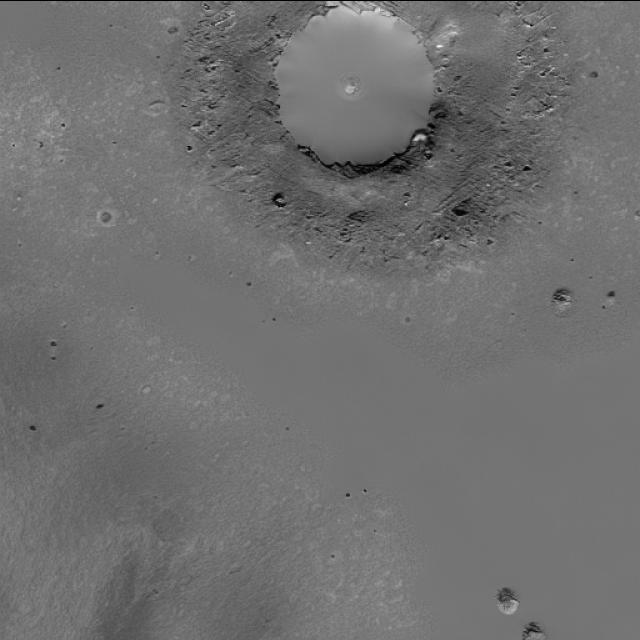crater: (274, 4, 440, 178)
